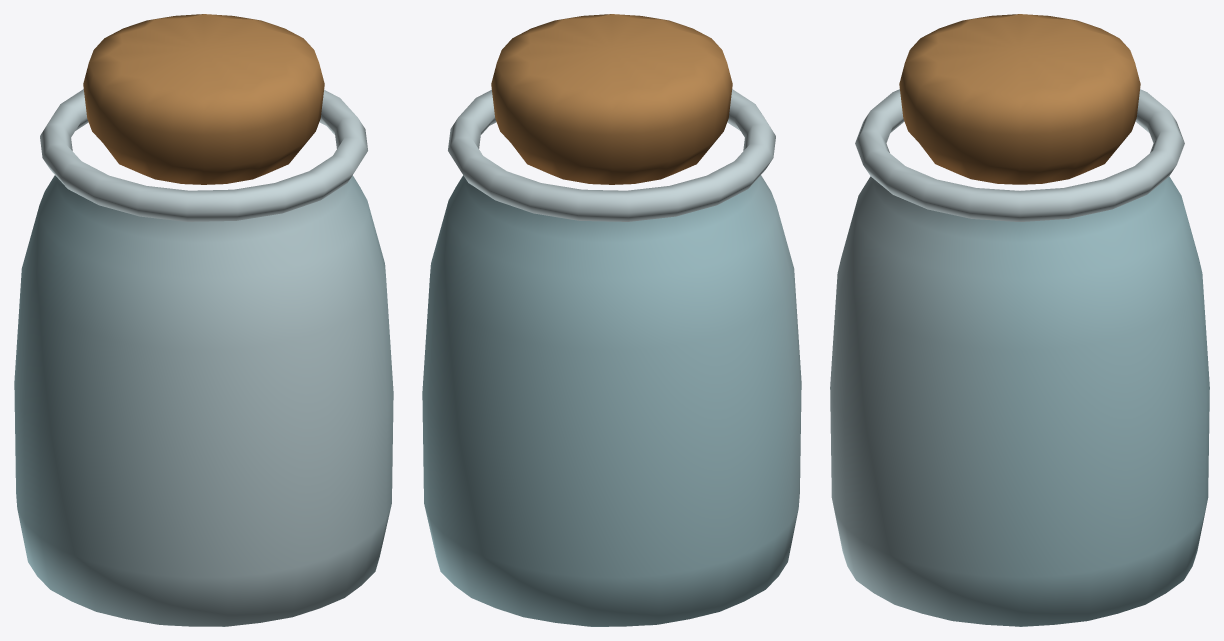
File: potion.glb
3 renders of one model, left to right at view 1: azimuth 30°, elevation 25°; view 2: azimuth 150°, elevation 25°; view 3: azimuth 270°, elevation 25°, orthographic.
Parts seen in each view (by area): view 1: potion_glass, potion; view 2: potion_glass, potion; view 3: potion_glass, potion.
Boxes of the visible parts, x1,y1,x2,y2 form: potion_glass: (14,175,393,626); potion: (40,14,367,221); potion_glass: (422,175,801,626); potion: (448,14,775,221); potion_glass: (830,176,1209,626); potion: (855,14,1184,221).
Size of the model in its own units: 0.2901 by 0.4385 by 0.2901.
